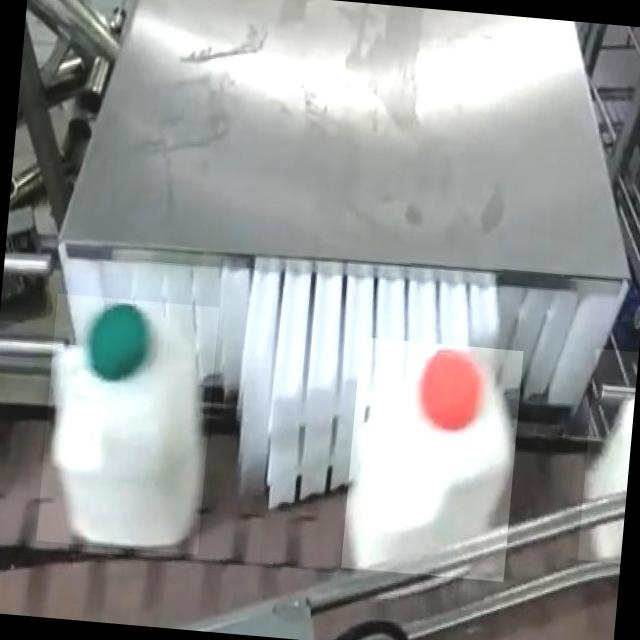milk: (339, 332, 529, 588), (39, 288, 221, 548)
